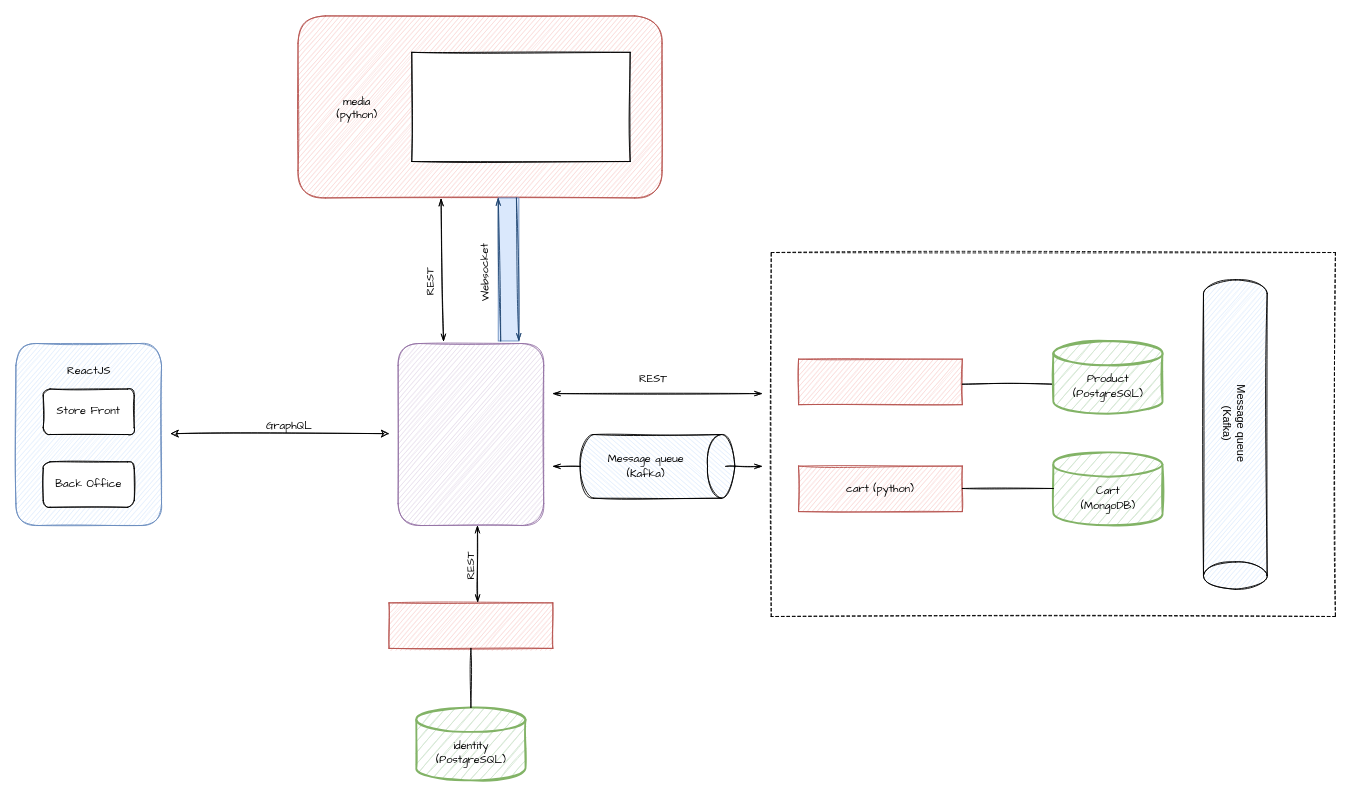
The diagram is 1351 pixels wide and 797 high, and some of its shapes have lost their labels. The box of each missing label's shape, as (x1, y1, x2, y2) in pixels:
filesystem: (411, 51, 630, 162)
gateway (go): (397, 343, 544, 526)
identity (java): (388, 602, 553, 648)
product (java): (798, 358, 962, 405)
